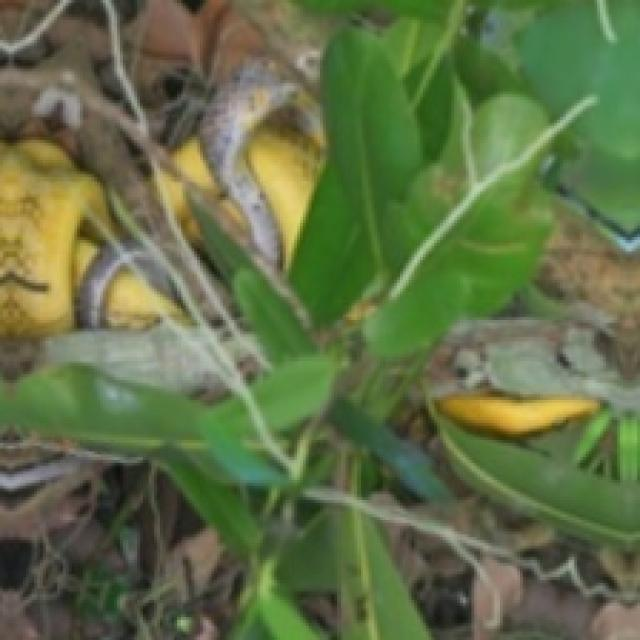red-tailed green ratsnake: (0, 141, 185, 339), (171, 60, 324, 264), (522, 232, 640, 349), (440, 392, 599, 438), (161, 171, 199, 239)
